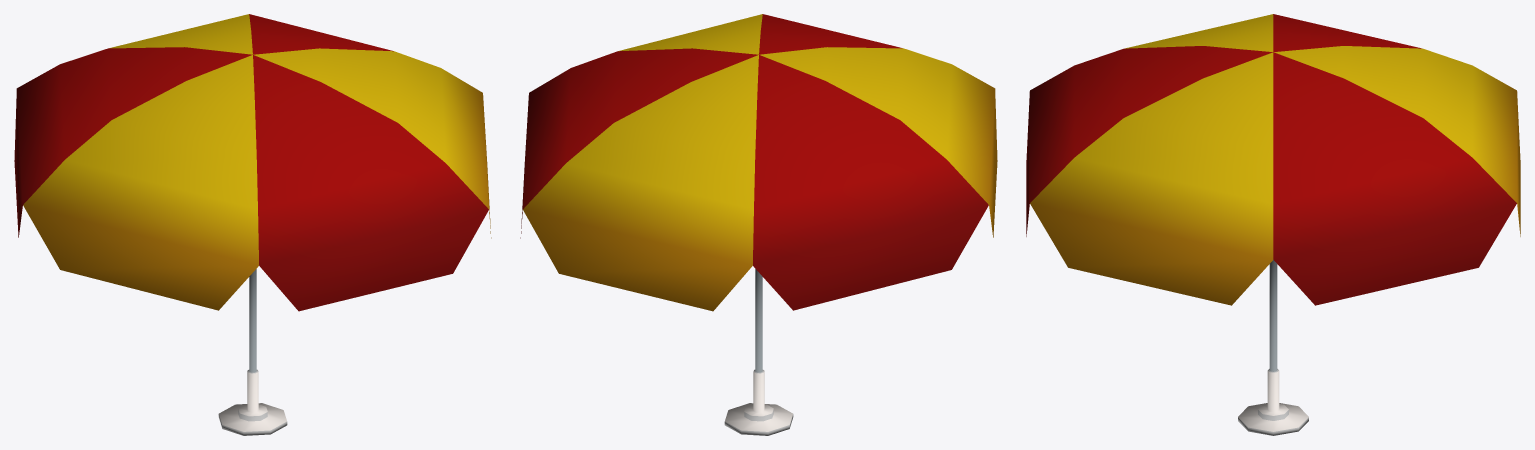
3 views of the same model, side by side, from view 1: azimuth 30°, elevation 25°; view 2: azimuth 150°, elevation 25°; view 3: azimuth 270°, elevation 25° (orthographic).
Parts seen in each view (by area): view 1: base.026; view 2: base.026; view 3: base.026.
Boxes of the visible parts, bbox=[...] form: base.026: bbox=[14, 14, 491, 435]; base.026: bbox=[520, 14, 997, 435]; base.026: bbox=[1026, 14, 1520, 435].
Bounding box in the file's own units: 0.5654 × 0.4307 × 0.5233.
